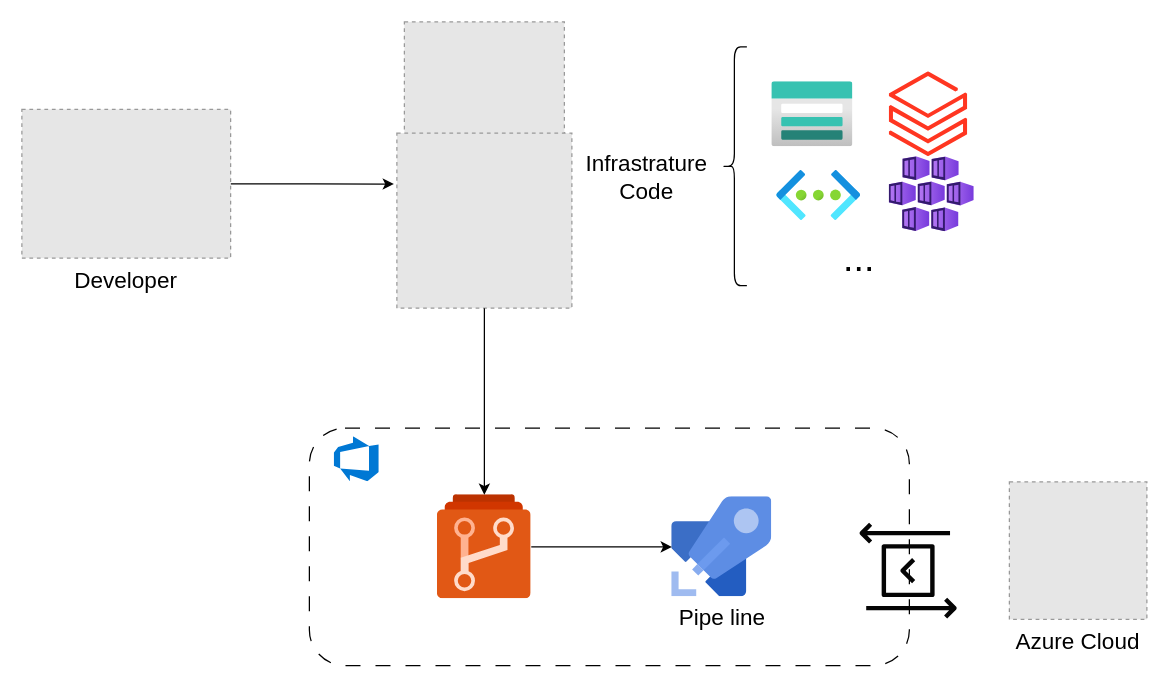
The diagram is 1169 pixels wide and 688 high, and some of its shapes have lost their labels. Grey dashed boxes stand in for pictures. The centre of each missing label's shape, as x and y in pixels:
Azure DevOps: point (356, 458)
Repo: point (484, 546)
